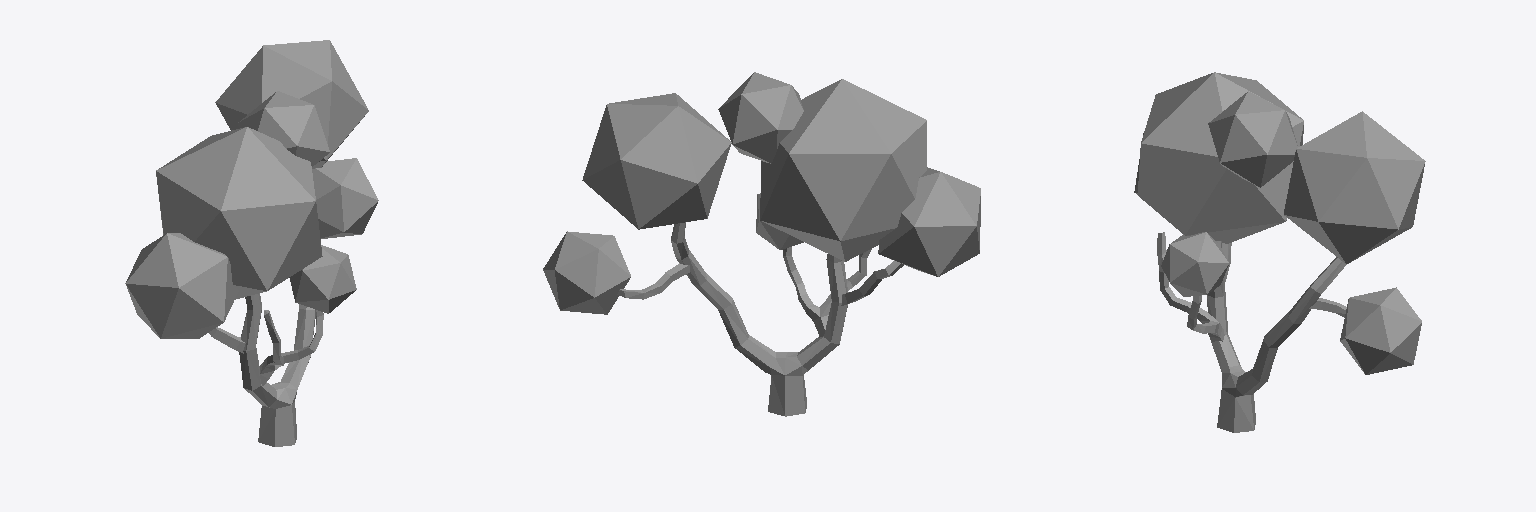
File: tree.obj
The picture shows the model from 3 angles: view 1: azimuth 30°, elevation 25°; view 2: azimuth 150°, elevation 25°; view 3: azimuth 270°, elevation 25°; orthographic projection.
Visible parts, largest first — view 1: Default; view 2: Default; view 3: Default.
Boxes of the visible parts, <box> form: Default: <box>125,40,378,446</box>; Default: <box>543,72,980,416</box>; Default: <box>1134,72,1425,432</box>.
Bounding box in the file's own units: 27.98 × 26.54 × 20.8.